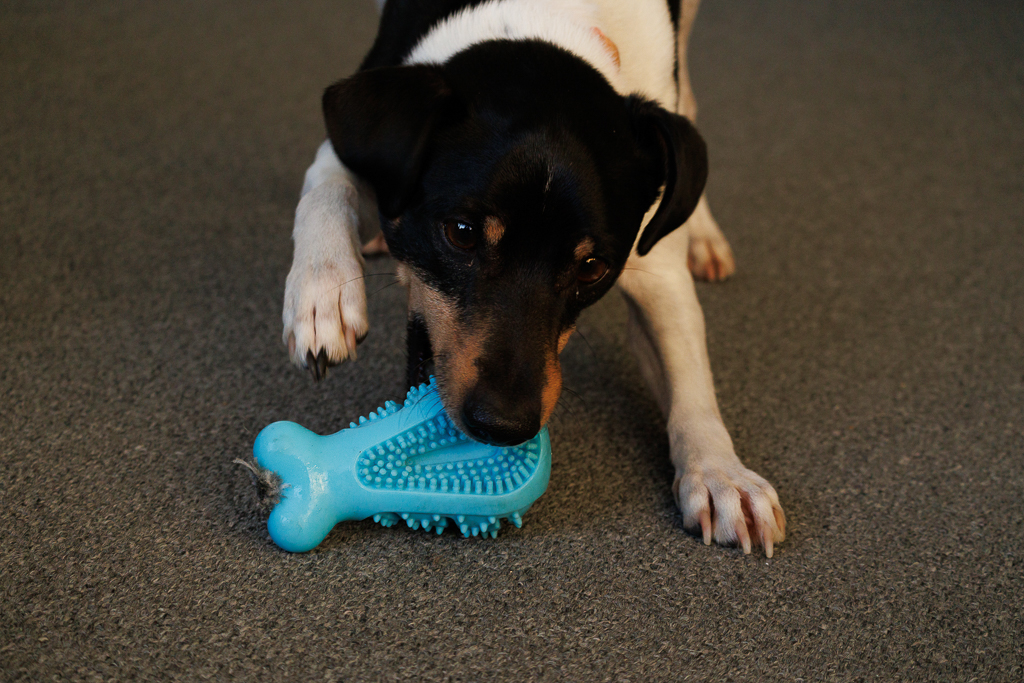Dog: (257, 0, 802, 571)
